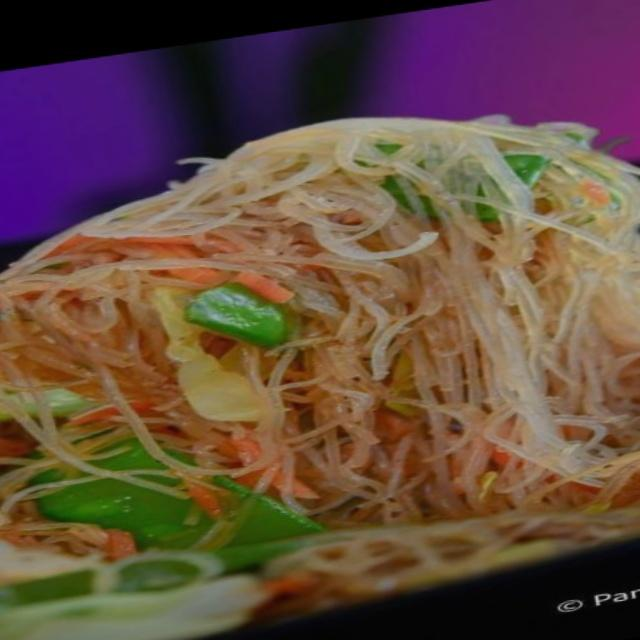pancit bihon: (0, 114, 639, 614)
